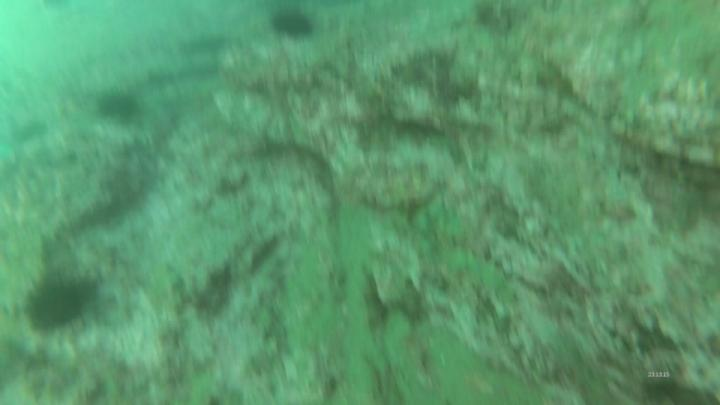echinus: (27, 274, 93, 335), (95, 87, 146, 124), (263, 6, 317, 40)
holothurian: (447, 247, 513, 303)
